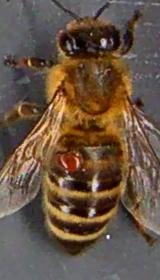varroa_mite: (55, 144, 92, 174)
